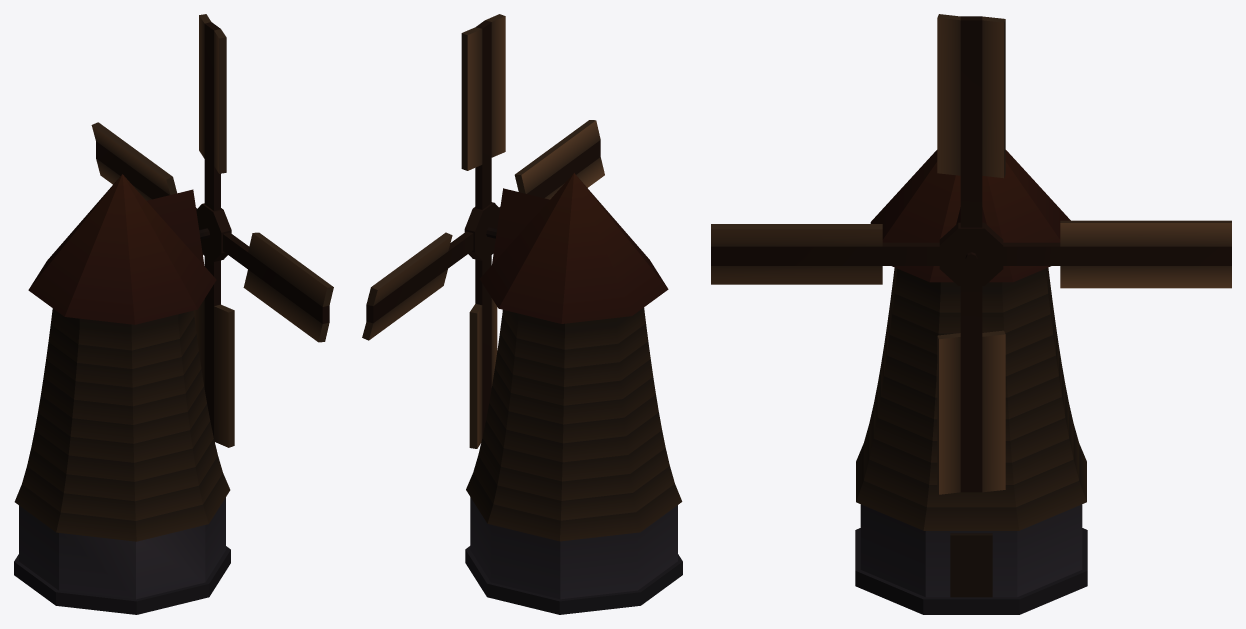
The model's file is Windmill.fbx.
3 renders of one model, left to right at view 1: azimuth 30°, elevation 25°; view 2: azimuth 150°, elevation 25°; view 3: azimuth 270°, elevation 25°, orthographic. The views are drawn at different scales.
Visible parts, largest first — view 1: Windmill, Flugel; view 2: Windmill, Flugel; view 3: Windmill, Flugel.
Boxes of the visible parts, x1,y1,x2,y2 form: Windmill: (14,174,230,614); Flugel: (91,14,333,447); Windmill: (465,173,682,614); Flugel: (362,14,604,448); Windmill: (855,150,1087,614); Flugel: (711,14,1231,494).
Bounding box in the file's own units: 722 × 1925 × 1520.
